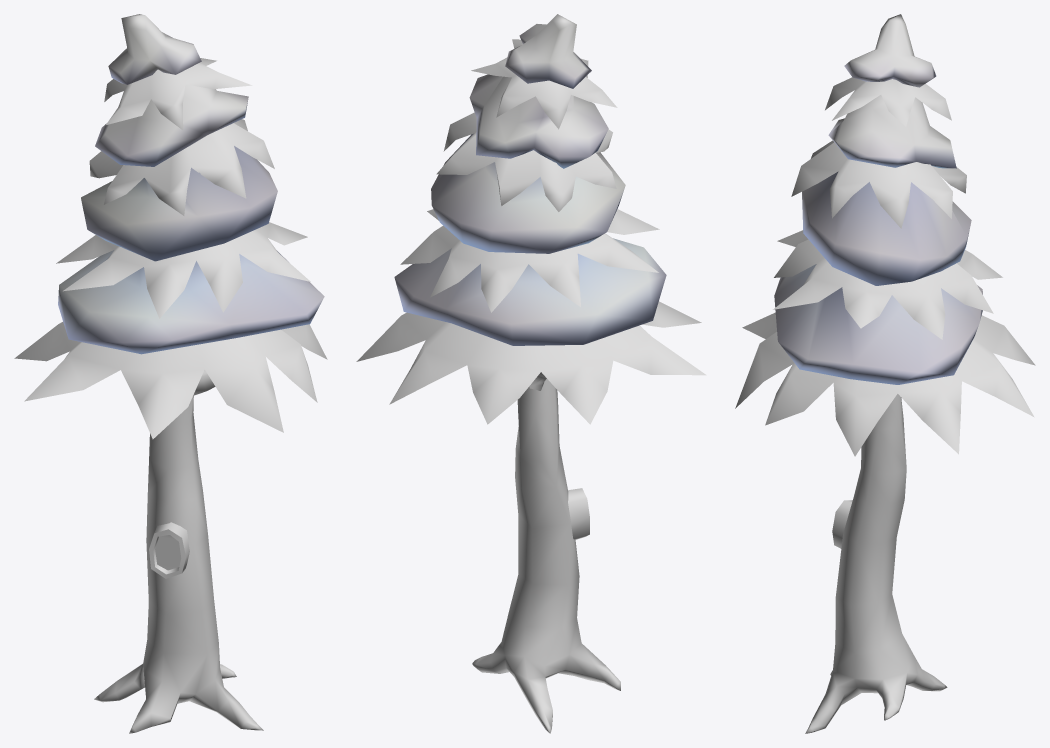
The model's file is SnowyPineTreeTallWithTrunk.glb.
The picture shows the model from 3 angles, left to right: view 1: azimuth 30°, elevation 25°; view 2: azimuth 150°, elevation 25°; view 3: azimuth 270°, elevation 25°; orthographic projection. The views are drawn at different scales.
Visible parts, largest first — view 1: SnowyPineTreeTallWithTrunk; view 2: SnowyPineTreeTallWithTrunk; view 3: SnowyPineTreeTallWithTrunk.
Boxes of the visible parts, box(x1,y1,x2,y2) form: SnowyPineTreeTallWithTrunk: box(14, 14, 327, 733); SnowyPineTreeTallWithTrunk: box(356, 14, 706, 733); SnowyPineTreeTallWithTrunk: box(735, 14, 1035, 733).
Bounding box in the file's own units: 8.52 × 18.79 × 7.54.
